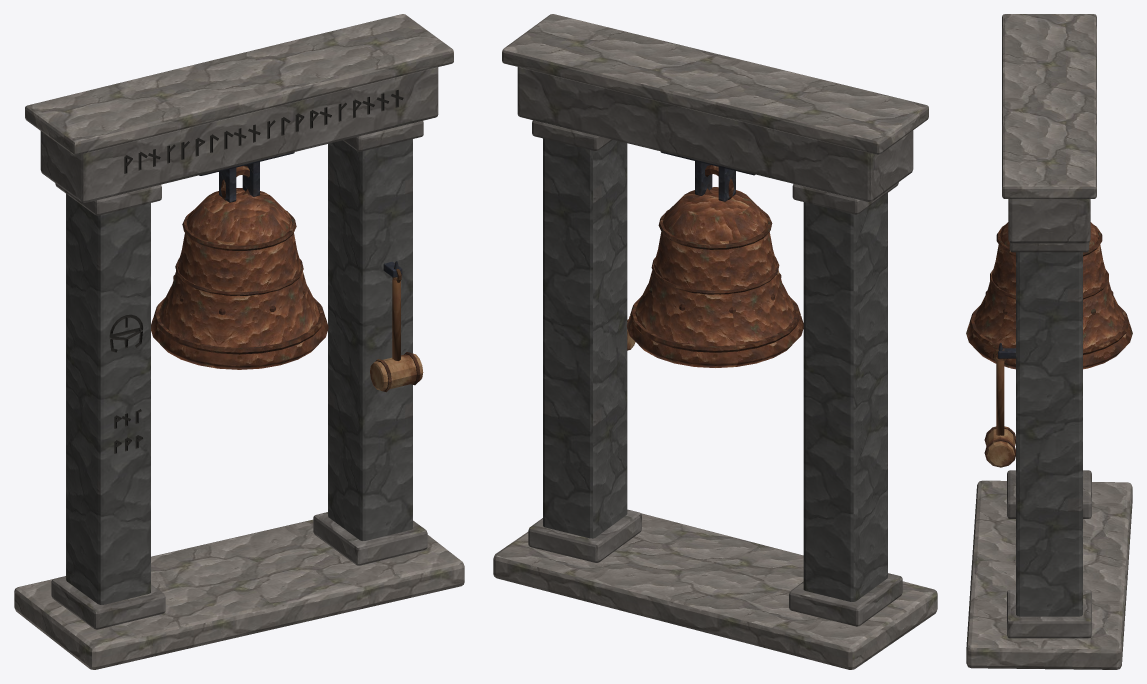
Rendered from th_mourning_bell.glb.
3 views of the same model, side by side, from view 1: azimuth 30°, elevation 25°; view 2: azimuth 150°, elevation 25°; view 3: azimuth 270°, elevation 25° (orthographic). The views are drawn at different scales.
Parts seen in each view (by area): view 1: model; view 2: model; view 3: model.
Boxes of the visible parts, x1=… form: model: x1=14, y1=14, x2=464, y2=669; model: x1=493, y1=14, x2=937, y2=669; model: x1=966, y1=14, x2=1132, y2=669.
Bounding box in the file's own units: 1.6 × 2.1 × 0.65.
11 materials, 10 textured.
